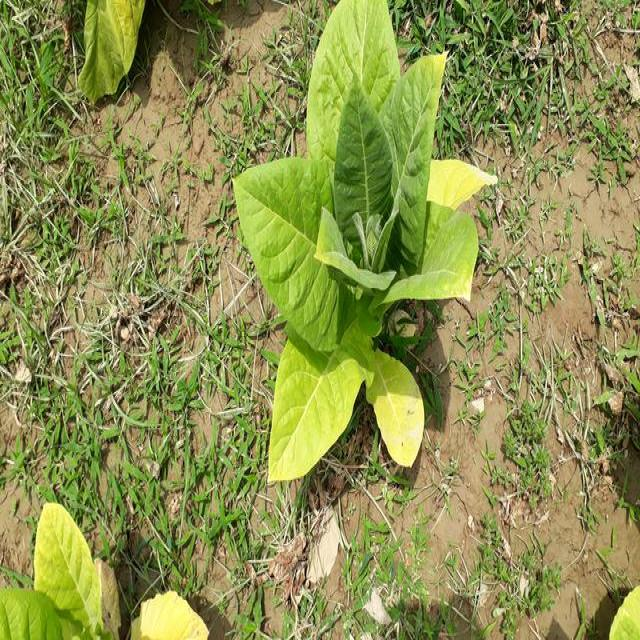crop: (232, 0, 492, 490), (11, 512, 220, 640), (70, 0, 151, 96), (606, 583, 640, 640)
